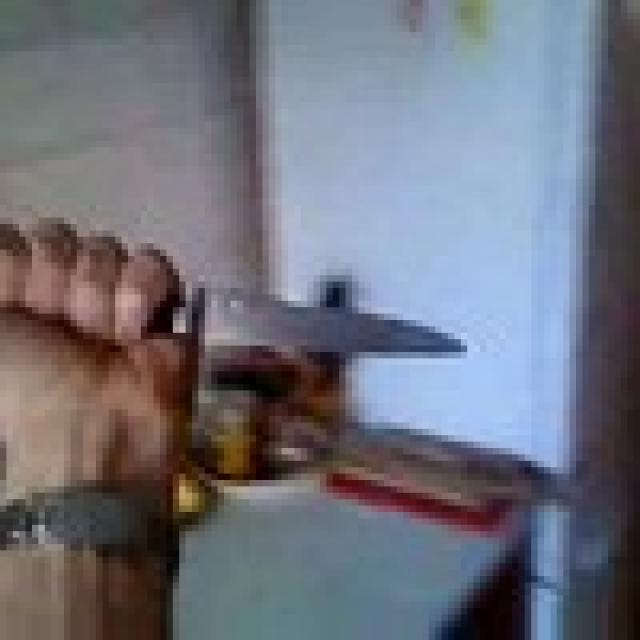Knife: (6, 230, 468, 365)
